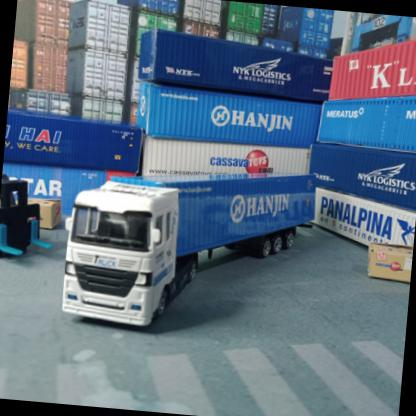truck: (62, 185, 188, 338)
